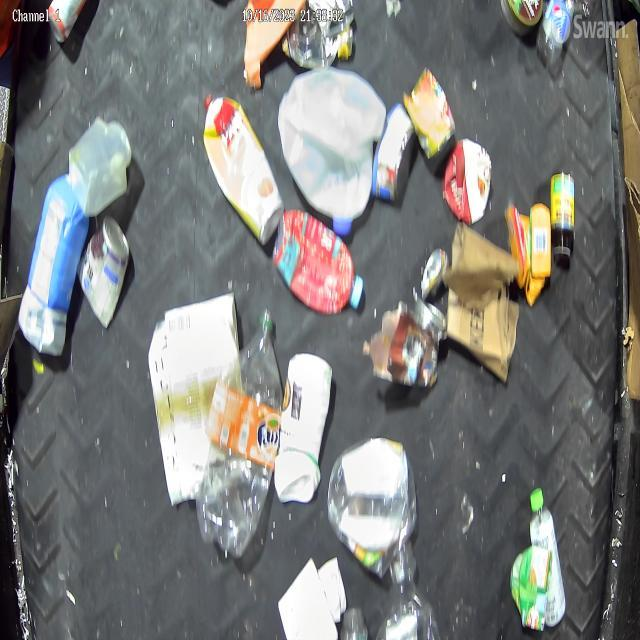can: (76, 214, 130, 331), (402, 64, 456, 163), (371, 100, 417, 204), (420, 246, 450, 303), (414, 297, 448, 344)
milk_jug: (276, 66, 386, 236)
plastic_bottle: (194, 306, 284, 559)
